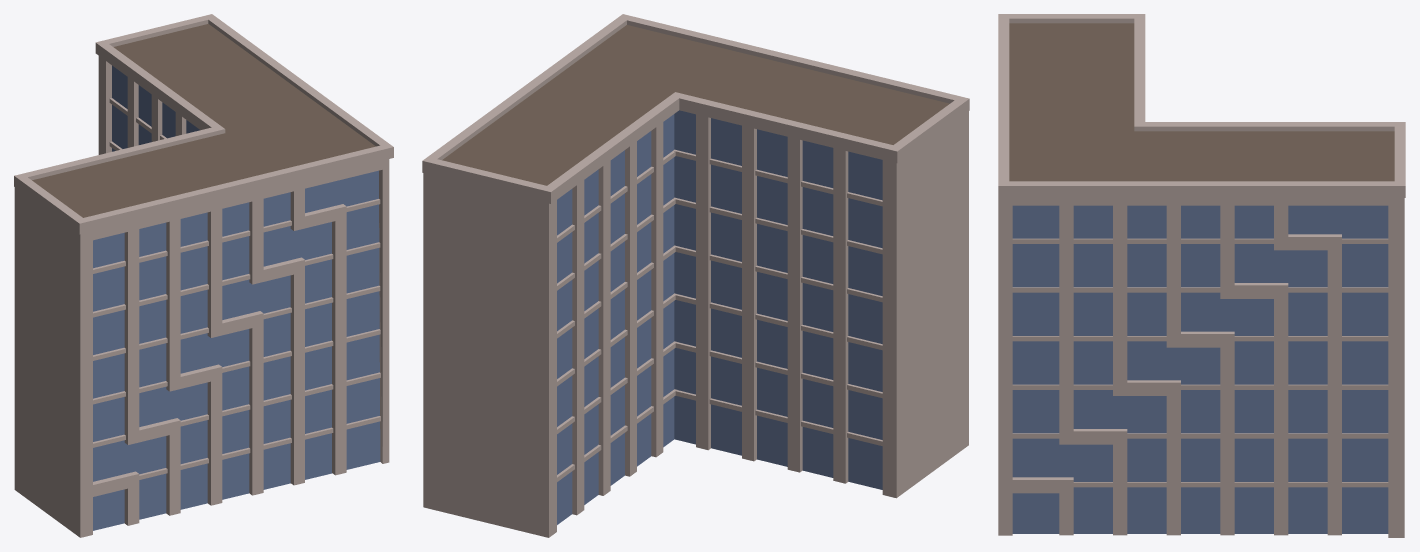
Rendered from LargeBuilding_07.fbx.
3 renders of one model, left to right at view 1: azimuth 30°, elevation 25°; view 2: azimuth 150°, elevation 25°; view 3: azimuth 270°, elevation 25°, orthographic. The views are drawn at different scales.
Parts seen in each view (by area): view 1: LargeBuilding_07; view 2: LargeBuilding_07; view 3: LargeBuilding_07.
Part boxes in pixels (x1=…): LargeBuilding_07: x1=14, y1=14, x2=393, y2=537; LargeBuilding_07: x1=422, y1=14, x2=969, y2=537; LargeBuilding_07: x1=998, y1=14, x2=1405, y2=537.
Bounding box in the file's own units: 27.96 × 26.8 × 28.02.
